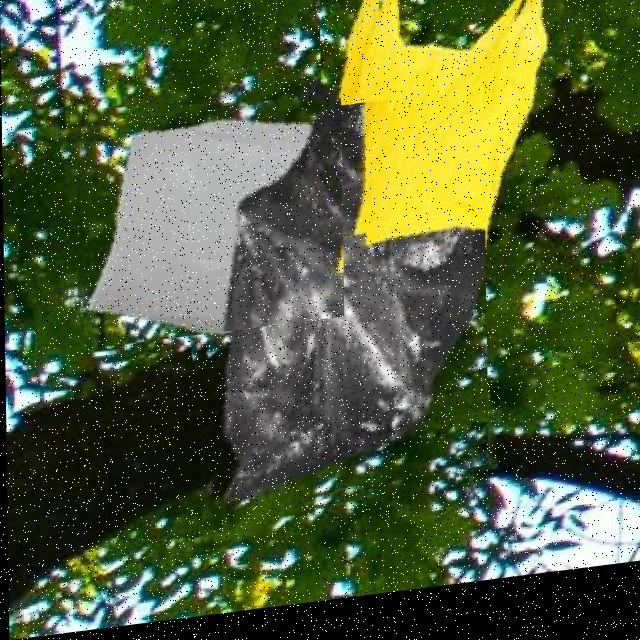plasticcover: (176, 99, 487, 534), (319, 0, 586, 308), (62, 84, 343, 352)
